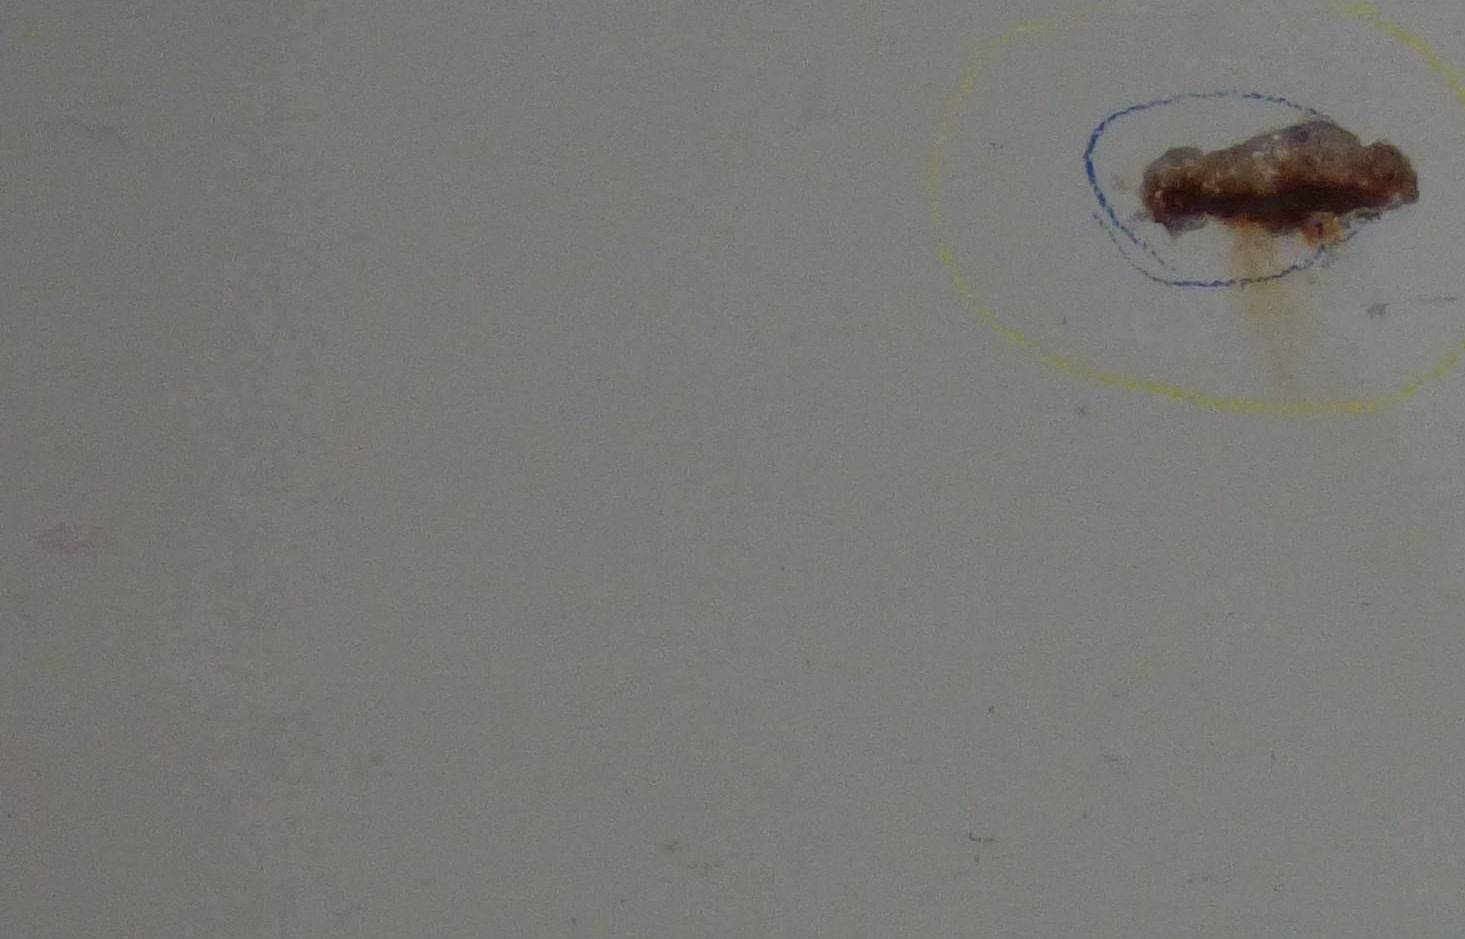Exposed reinforcement: (1161, 178, 1365, 217)
Spalling: (1133, 118, 1421, 248)
